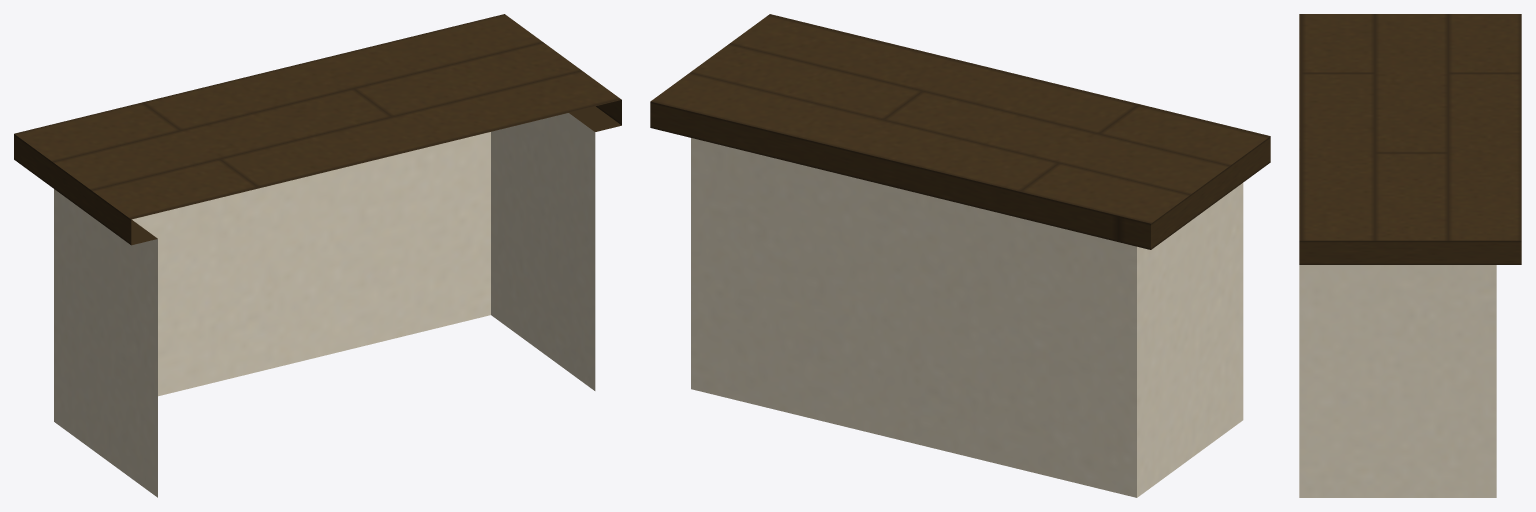
Rendered from counterSmall.fbx.
3 views of the same model, side by side, from view 1: azimuth 30°, elevation 25°; view 2: azimuth 150°, elevation 25°; view 3: azimuth 270°, elevation 25° (orthographic). The views are drawn at different scales.
Parts seen in each view (by area): view 1: counter, counterTop; view 2: counter, counterTop; view 3: counterTop, counter.
Boxes of the visible parts, x1,y1,x2,y2 form: counter: (54,113,595,497); counterTop: (14,14,621,245); counter: (691,138,1243,497); counterTop: (650,14,1270,249); counterTop: (1299,14,1521,264); counter: (1299,265,1496,497).
Size of the model in its own units: 109 by 60.37 by 45.04.
